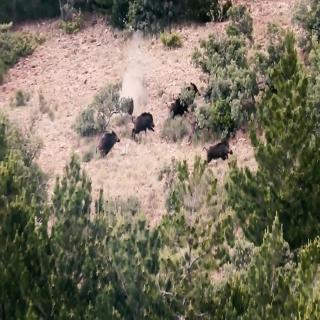Pig: (124, 100, 167, 140), (172, 63, 198, 121), (207, 127, 237, 173), (100, 121, 121, 162), (119, 92, 138, 112)
